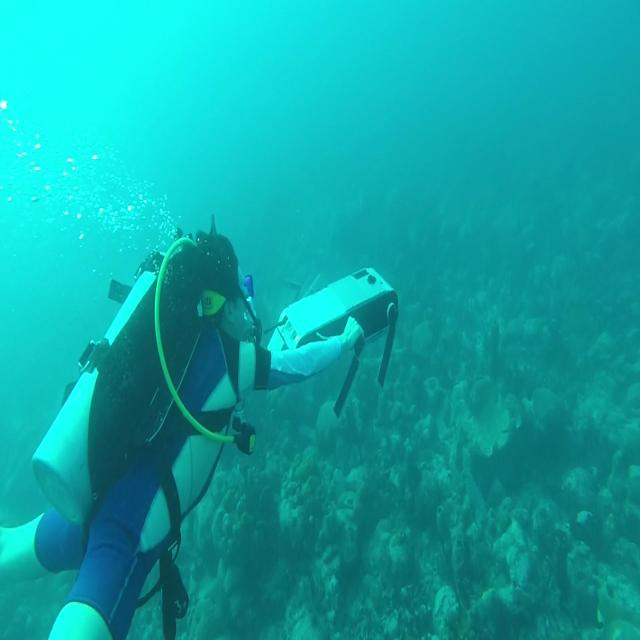human: (2, 214, 367, 638)
